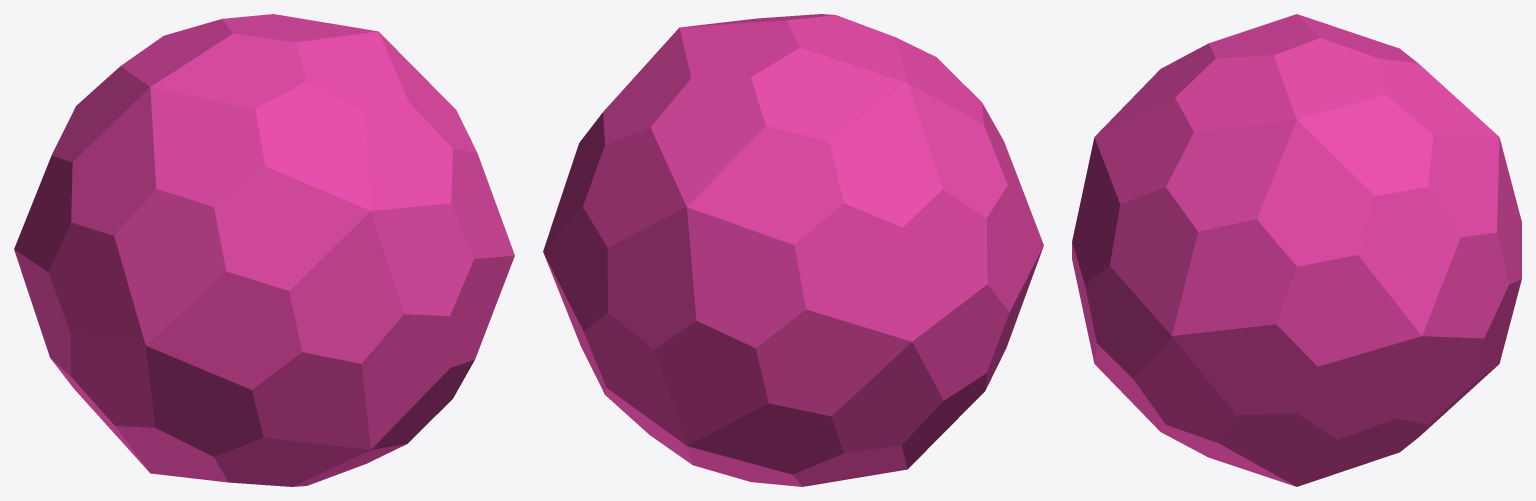
File: pentagonalhexecontahedron.gltf
The picture shows the model from 3 angles, left to right: view 1: azimuth 30°, elevation 25°; view 2: azimuth 150°, elevation 25°; view 3: azimuth 270°, elevation 25°; orthographic projection. The views are drawn at different scales.
Parts seen in each view (by area): view 1: Solid.002; view 2: Solid.002; view 3: Solid.002.
Boxes of the visible parts, x1,y1,x2,y2 form: Solid.002: (14,14,514,486); Solid.002: (543,14,1043,486); Solid.002: (1072,14,1521,486).
Bounding box in the file's own units: 1.57 × 1.57 × 1.57.
